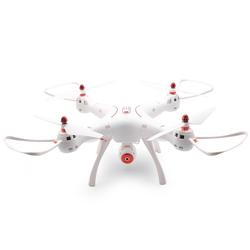drone: (3, 78, 250, 189)
